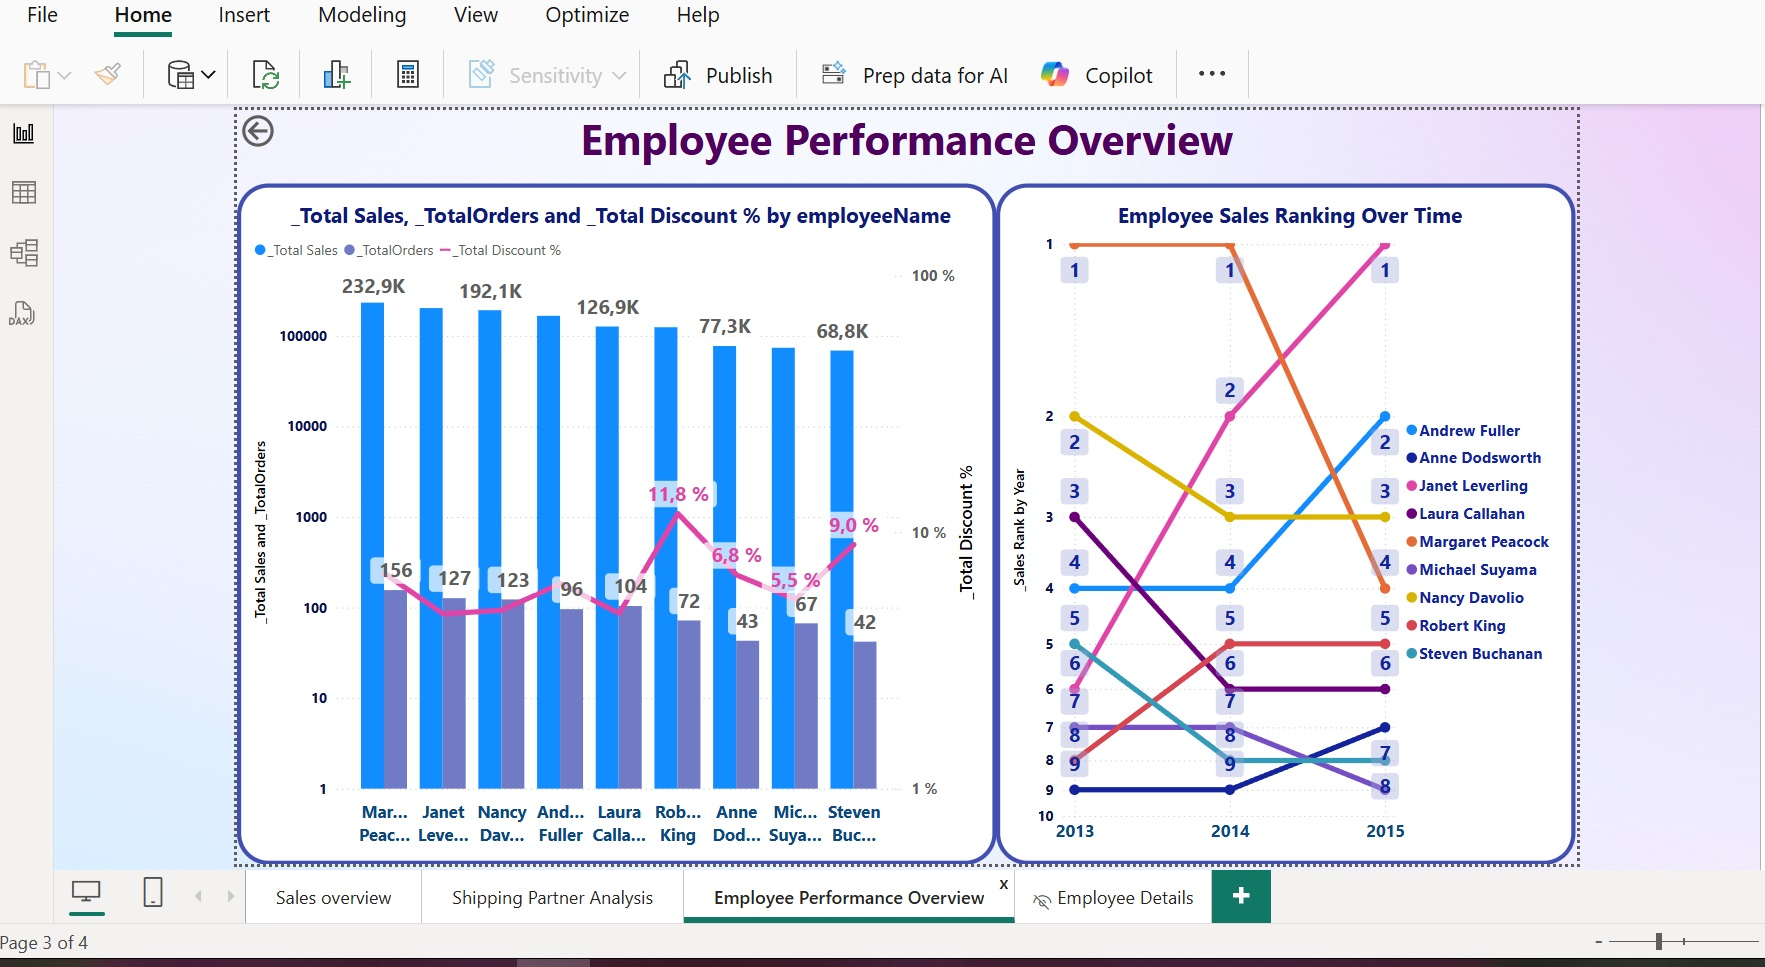

This screenshot's page, from the dashboard's own definition file:
{"tool":"powerbi","page":{"name":"Employee Performance Overview","canvas":[1280,720],"ordinal":2},"visuals":[{"type":"actionButton","box":[0,0,100,40],"z":0},{"type":"textbox","title":"Employee Performance Overview","box":[0,0,1279.4,58.6],"z":1000},{"type":"lineClusteredColumnComboChart","fields":{"Category":["employees.employeeName"],"Y":["_measures._Total Sales","_measures._TotalOrders"],"Y2":["_measures._Total Discount %"]},"box":[0,70,725.3,650.6],"z":2000},{"type":"lineChart","title":"Employee Sales Ranking Over Time","fields":{"Category":["DimDate.Date.Variation.Date Hierarchy.Year"],"Y":["_measures._Sales Rank by Year"],"Series":["employees.employeeName"]},"box":[725.3,70,553.5,650.6],"z":3000}]}

Visuals, with their boxes on the page's 1280x720 design canvas (x1, y1, x2, y2). These are canvas units, not pixel positions in the 1765x967 screenshot, which may show the page scaled, cropped or inside an application window:
actionButton: <box>0,0,100,40</box>
"Employee Performance Overview" textbox: <box>0,0,1279,59</box>
lineClusteredColumnComboChart - employees.employeeName x _measures._Total Sales: <box>0,70,725,721</box>
"Employee Sales Ranking Over Time" lineChart: <box>725,70,1279,721</box>
